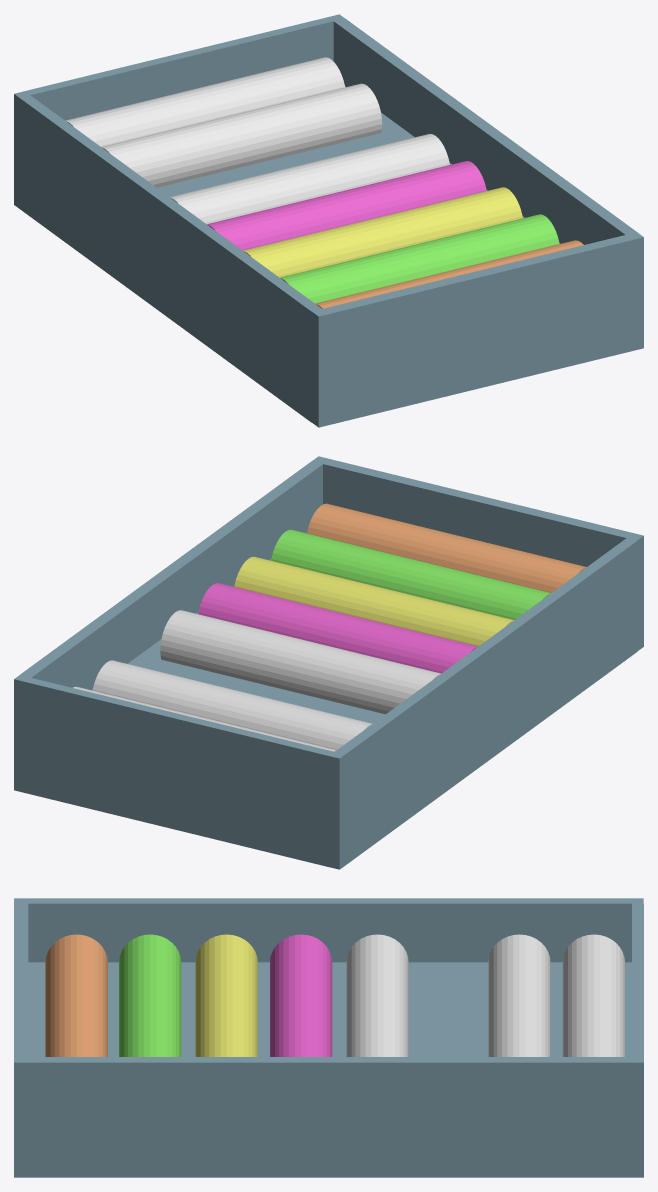
The model's file is cheack1.fbx.
3 views of the same model, one above another, from view 1: azimuth 30°, elevation 25°; view 2: azimuth 150°, elevation 25°; view 3: azimuth 270°, elevation 25° (orthographic). The views are drawn at different scales.
Visible parts, largest first — view 1: Cube, Cylinder.005, Cylinder.001, Cylinder, Cylinder.004, Cylinder.006, Cylinder.003, Cylinder.002; view 2: Cube, Cylinder, Cylinder.006, Cylinder.003, Cylinder.005, Cylinder.001, Cylinder.002, Cylinder.004; view 3: Cube, Cylinder, Cylinder.005, Cylinder.001, Cylinder.002, Cylinder.003, Cylinder.004, Cylinder.006.
Boxes of the visible parts, x1,y1,x2,y2 form: Cube: [14, 14, 643, 427]; Cylinder.005: [101, 83, 382, 187]; Cylinder.001: [243, 187, 522, 277]; Cylinder: [170, 134, 449, 224]; Cylinder.004: [65, 57, 345, 146]; Cylinder.006: [207, 161, 486, 250]; Cylinder.003: [280, 214, 559, 303]; Cylinder.002: [315, 240, 583, 308]; Cube: [14, 456, 643, 869]; Cylinder: [160, 610, 440, 714]; Cylinder.006: [198, 583, 477, 673]; Cylinder.003: [271, 529, 550, 619]; Cylinder.005: [92, 660, 372, 749]; Cylinder.001: [234, 556, 513, 646]; Cylinder.002: [307, 503, 586, 592]; Cylinder.004: [73, 686, 336, 751]; Cube: [14, 898, 643, 1177]; Cylinder: [346, 934, 408, 1056]; Cylinder.005: [488, 934, 550, 1056]; Cylinder.001: [195, 934, 257, 1056]; Cylinder.002: [45, 934, 107, 1056]; Cylinder.003: [119, 934, 181, 1056]; Cylinder.004: [562, 934, 624, 1056]; Cylinder.006: [270, 934, 332, 1056].
Bounding box in the file's own units: 387 × 126 × 626.
